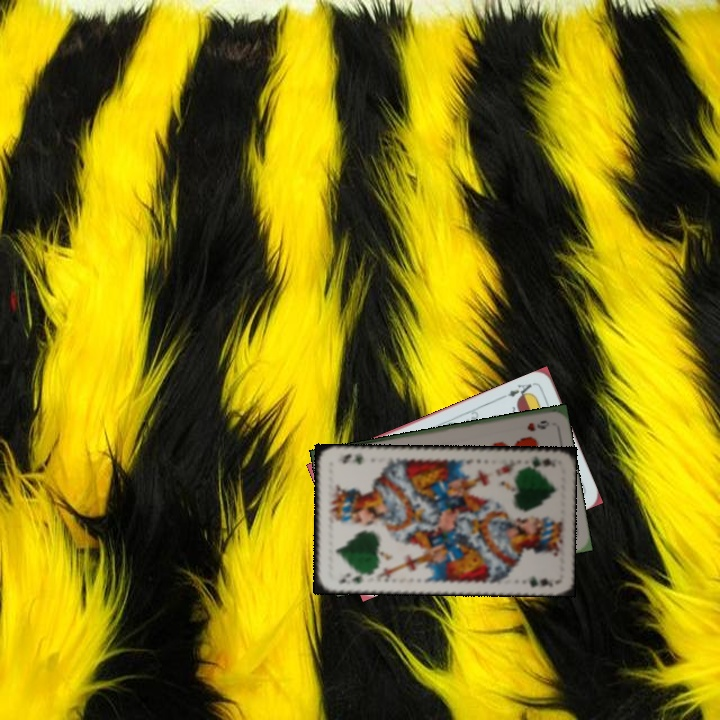EA: (504, 379, 537, 402)
GK: (519, 454, 559, 470), (334, 569, 370, 586)
H9: (523, 416, 552, 434)
